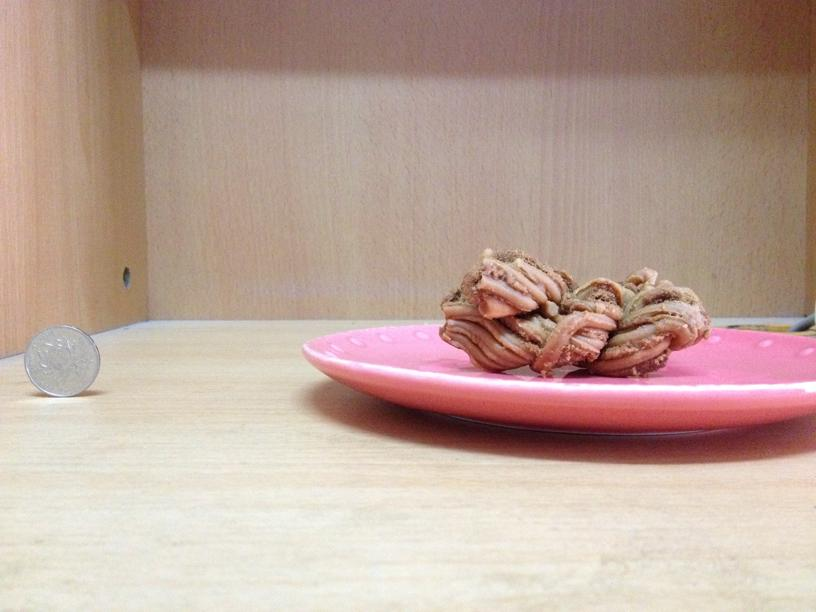coin: (26, 322, 99, 396)
fired_dough_twist: (445, 249, 705, 373)
